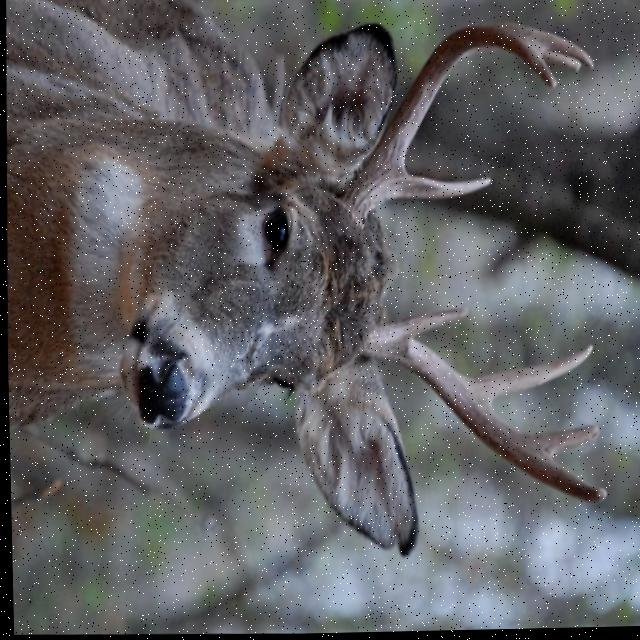E1: (541, 31, 594, 71)
L-F: (343, 25, 557, 223)
L-G1: (378, 164, 491, 205)
R-F: (360, 326, 605, 505)
R-G1: (390, 308, 465, 337)
R-G2: (462, 345, 591, 408)
R-G3: (524, 426, 596, 456)
